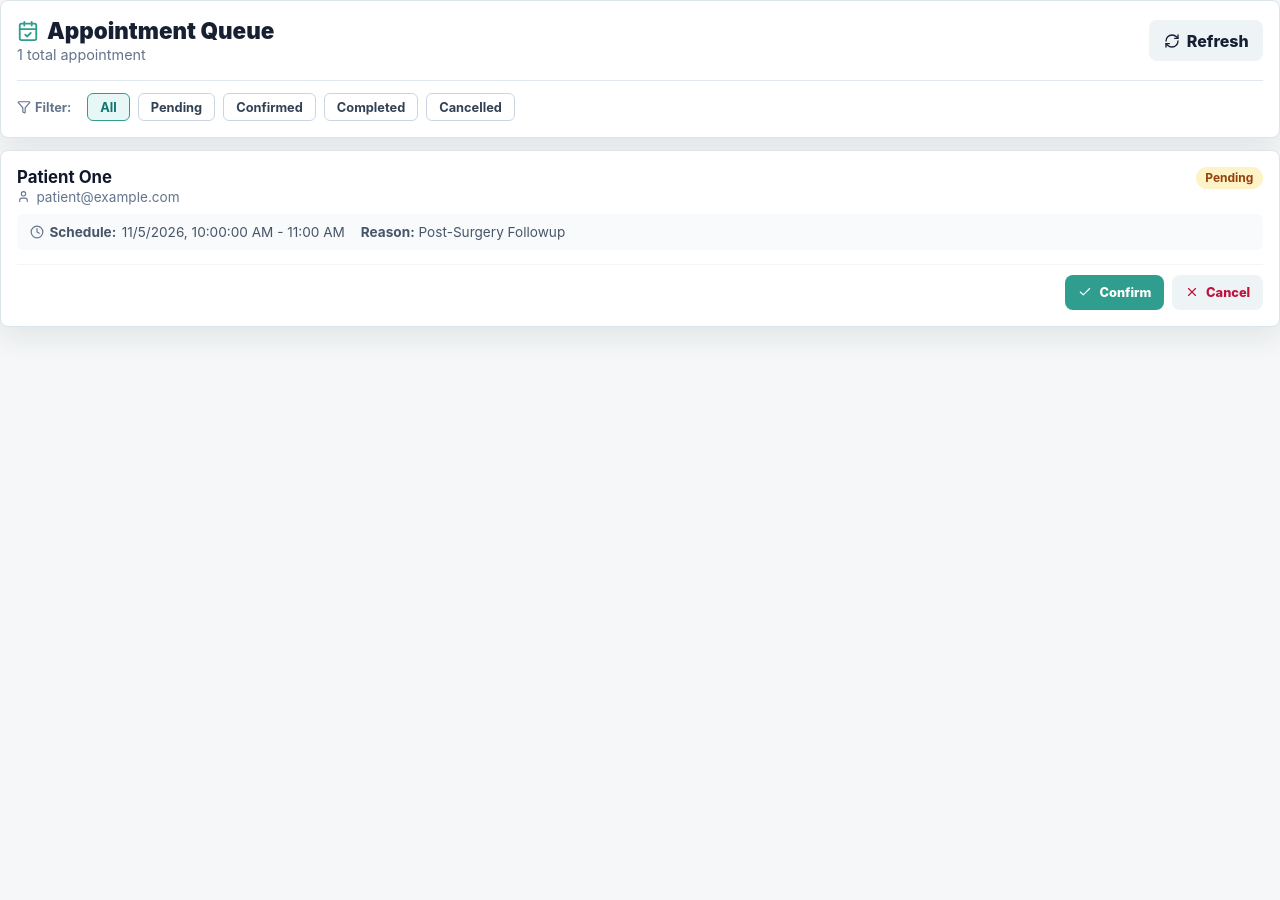
Doctor Dashboard: Real Component Workflow Tests › renders Appointments component and performs actual rendered-form submissions for confirmation, completion, and doctor cancellation
The width and height of the screenshot is (1280, 900).
Expected: the text "Post-Surgery Followup" is shown, [418,224,565,240]
Note: Doctor Confirms Appointment
Click the button "Confirm": x=1115, y=292 [1066,274,1164,310]
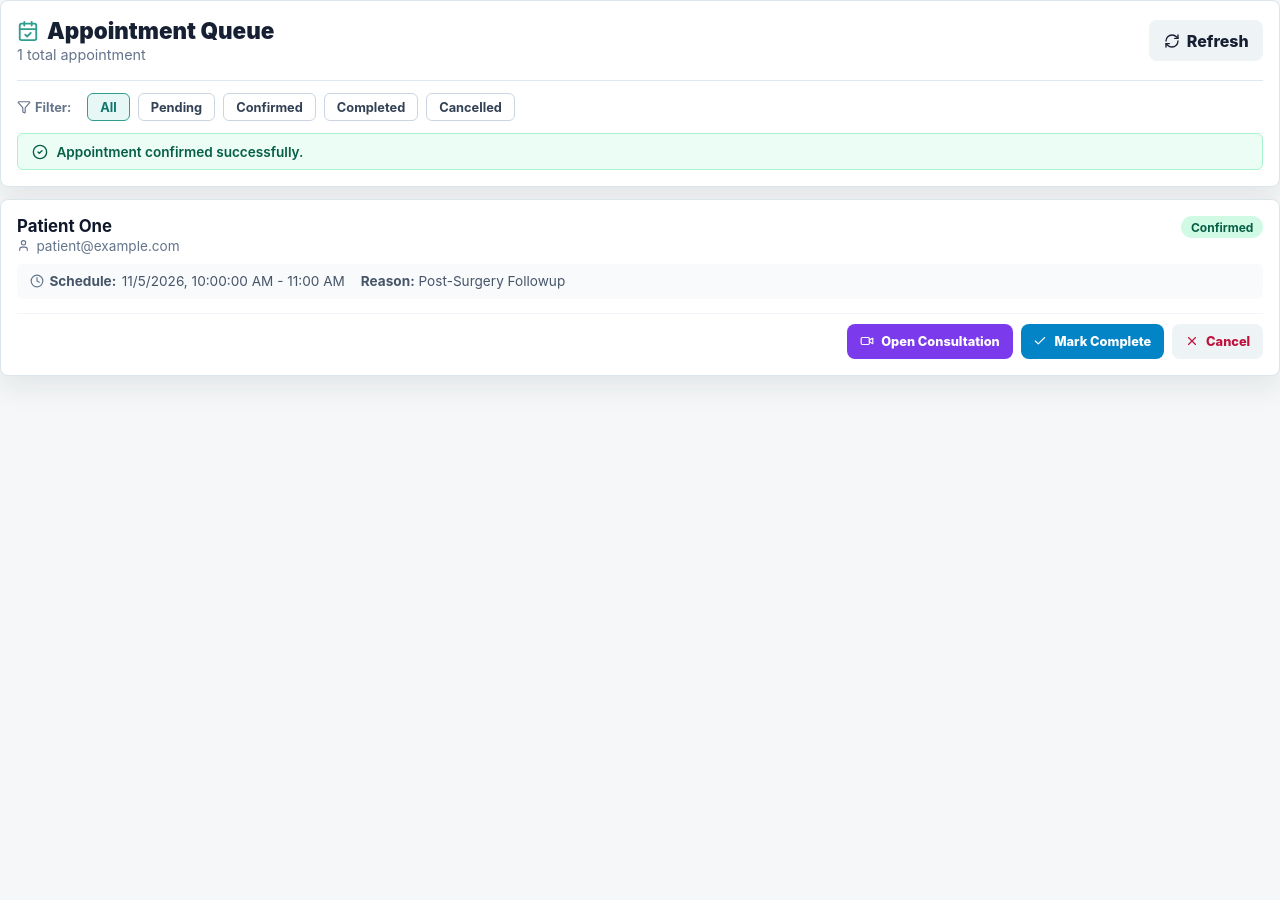
Now the text "Appointment confirmed successfully." is shown, box [56,144,303,160]
Now the button "Mark Complete" is shown
Click the button "Mark Complete": x=1092, y=341 [1020,324,1164,359]
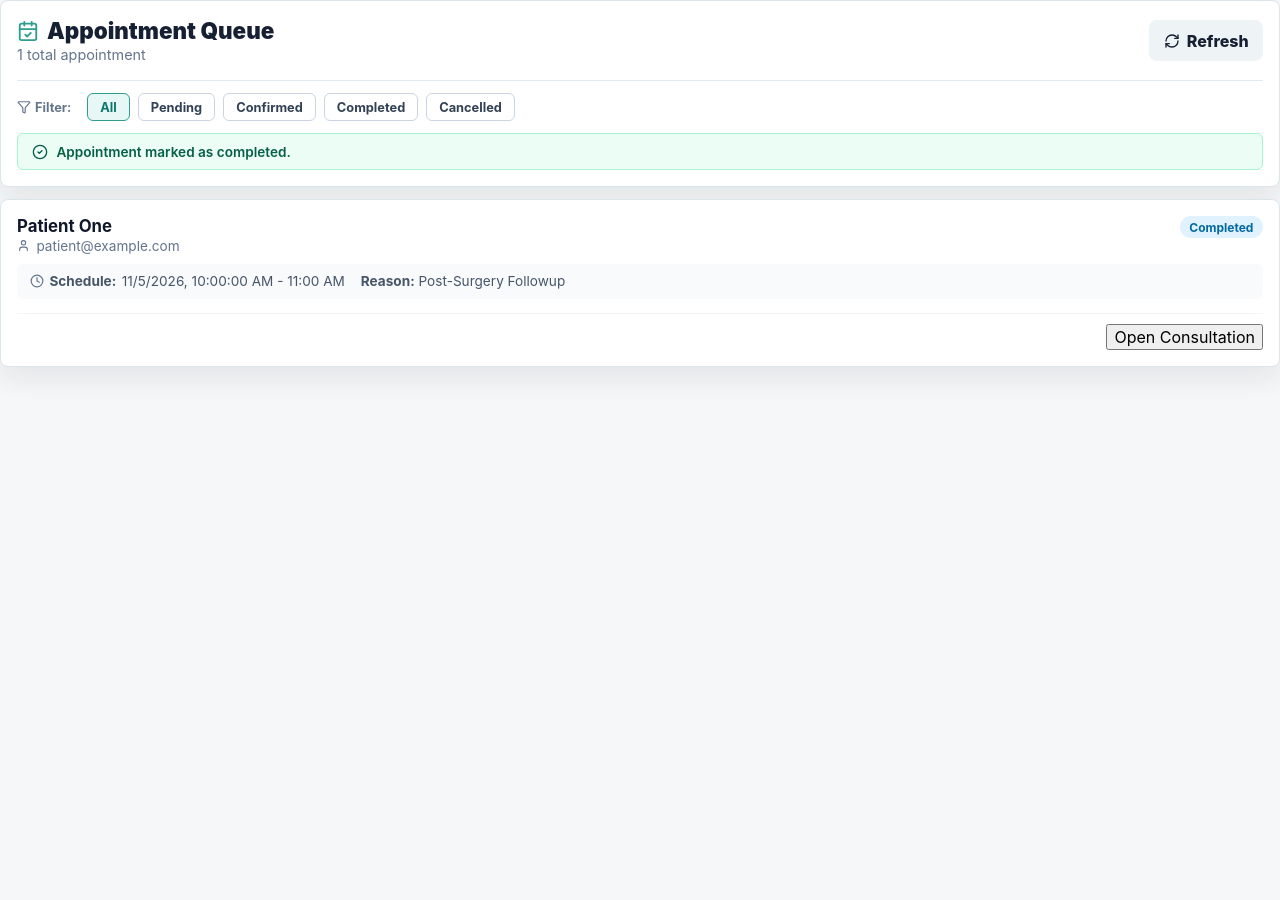
Now the text "Appointment marked as completed." is shown, box [56,144,291,160]
Click the button titled "Refresh appointments": x=1206, y=40 [1149,20,1263,61]
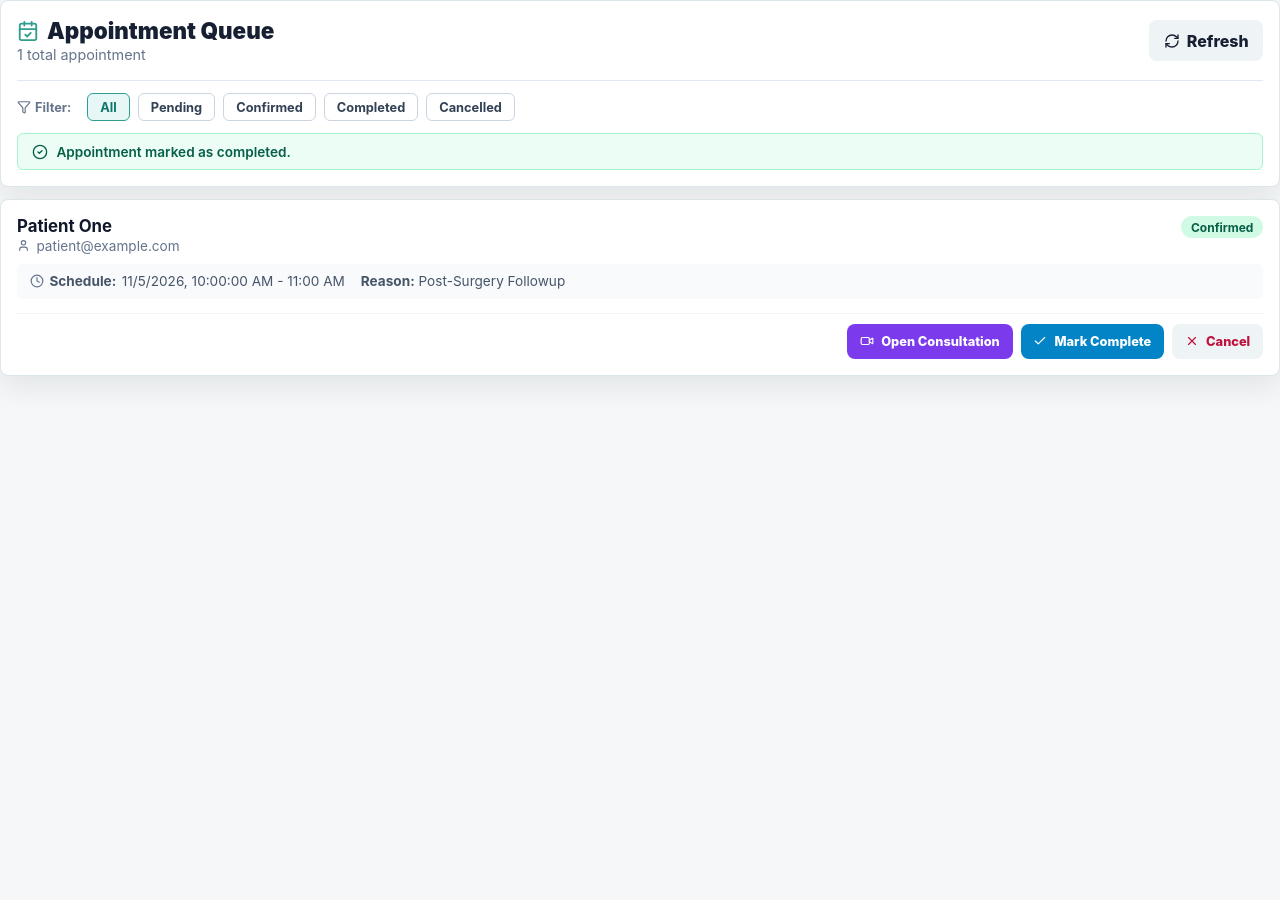
Now the button "Cancel" is shown
Note: Click Cancel button to open cancel modal
Click the button "Cancel": x=1218, y=341 [1172,324,1263,359]
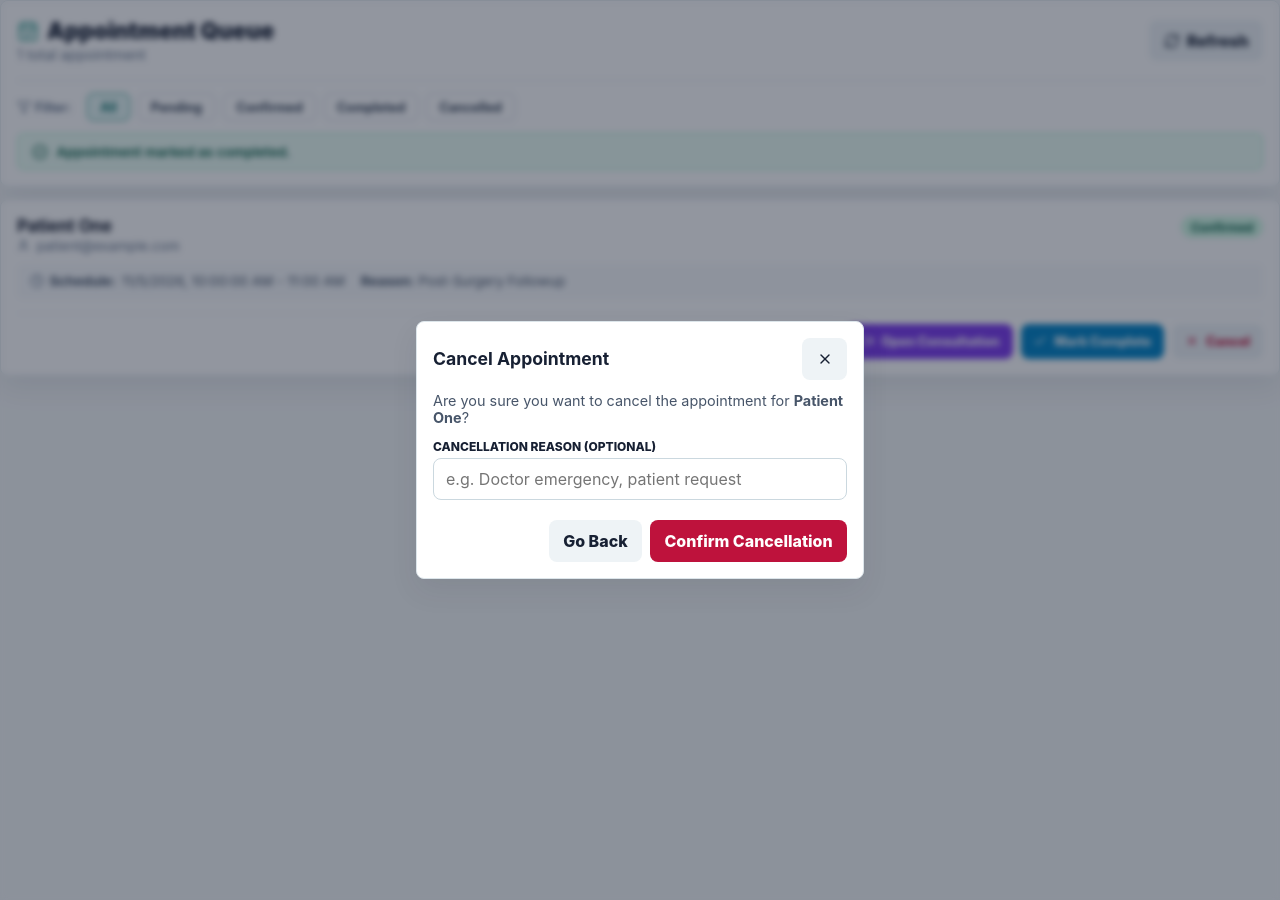
Now the text "Cancel Appointment" is shown, box [433,348,609,369]
Note: Fill in cancellation reason in the rendered form
In the field with placeholder "e.g. Doctor emergency, patient request": x=640, y=479 [433,458,847,500], type "Doctor emergency surgery"
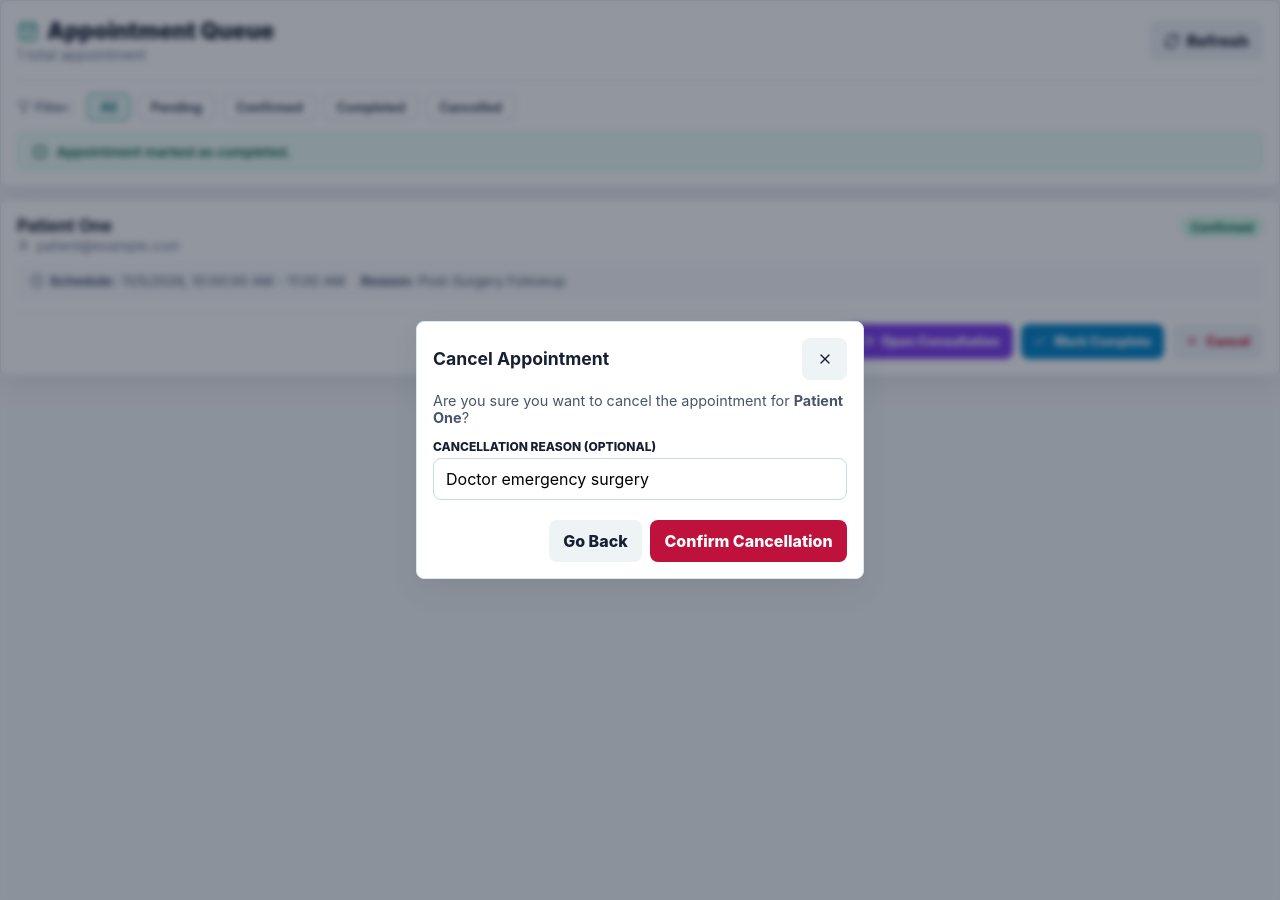
Note: Submit rendered cancellation form
Click the button "Confirm Cancellation": x=749, y=541 [650,520,847,562]
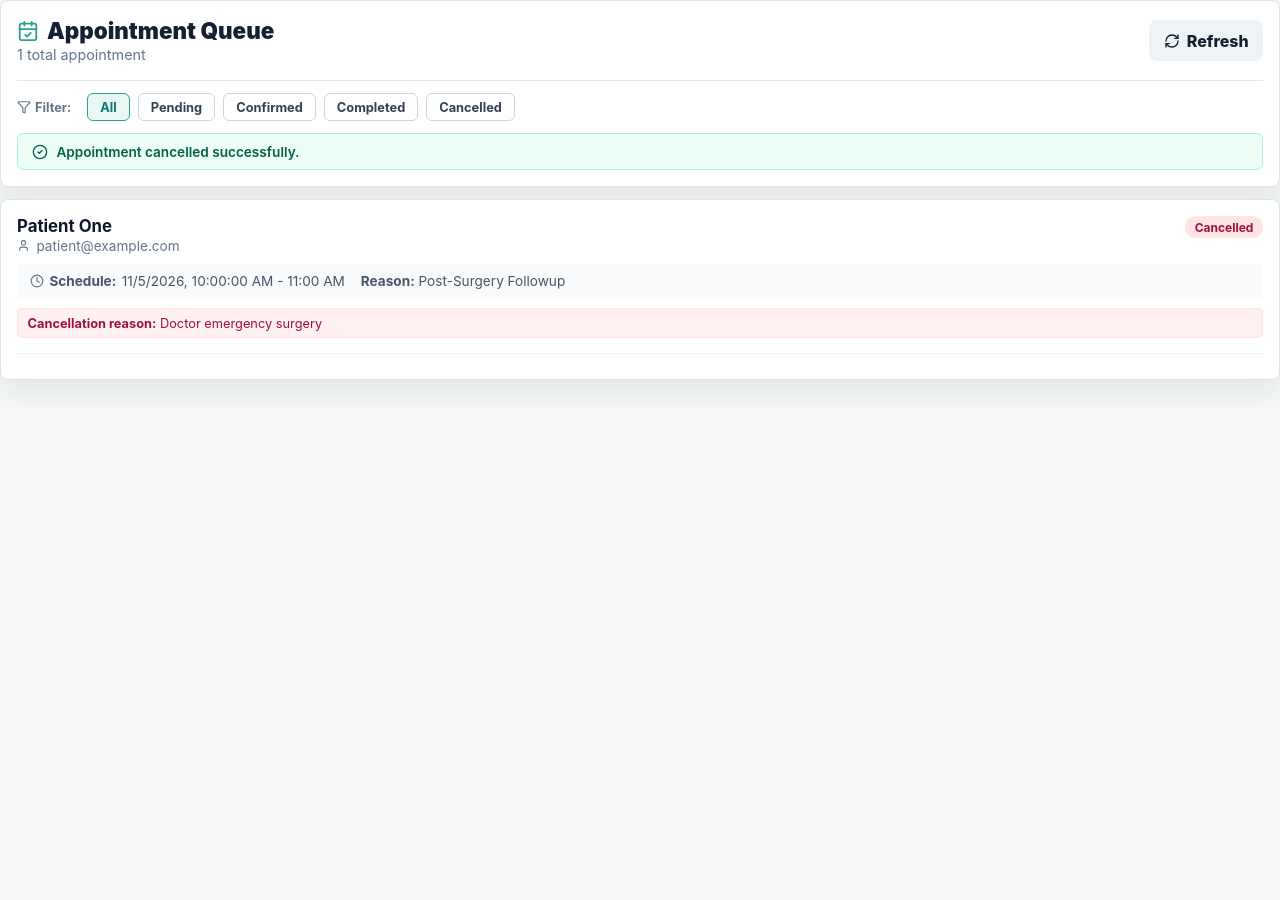
Now the text "Appointment cancelled successfully." is shown, box [56,144,299,160]
Now the text "Cancellation reason: Doctor emergency surgery" is shown, box [17,308,1263,338]
